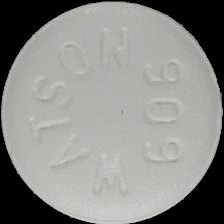0904-5929: (0, 0, 224, 224)
